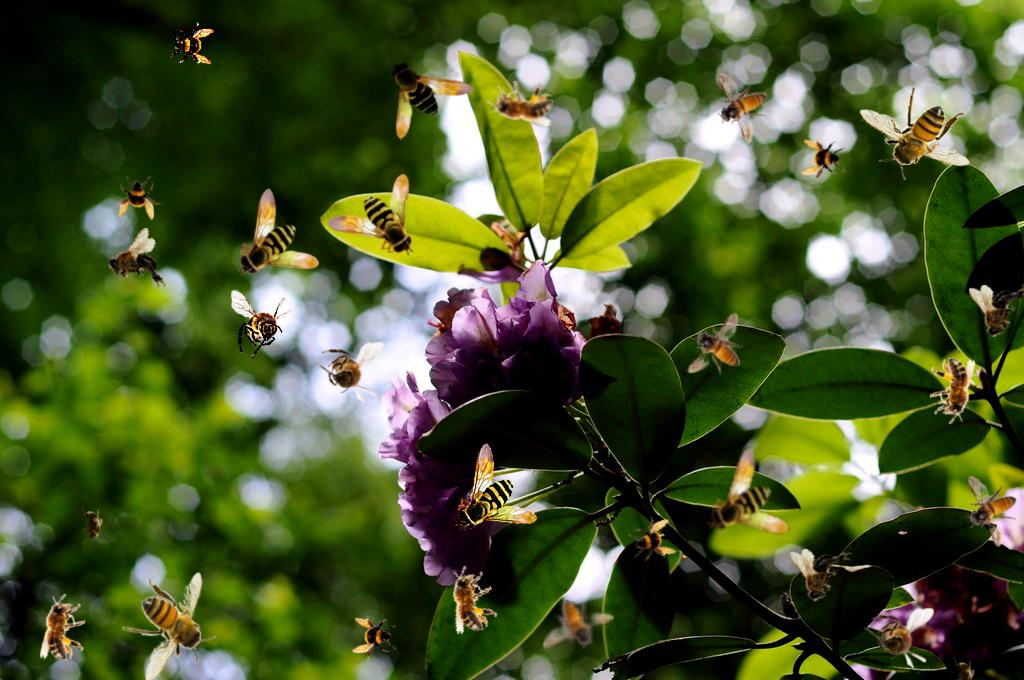Bee: (859, 86, 970, 180), (122, 572, 216, 680), (705, 442, 801, 542), (325, 171, 417, 257), (455, 443, 537, 531), (237, 188, 319, 276), (388, 58, 476, 140), (672, 310, 760, 389), (99, 226, 170, 302), (440, 560, 502, 637), (231, 290, 292, 360), (864, 608, 934, 669), (314, 342, 384, 403), (717, 73, 767, 144), (967, 476, 1017, 547), (543, 599, 614, 649), (790, 549, 852, 602), (624, 511, 680, 567), (487, 81, 553, 126), (40, 594, 85, 660), (930, 358, 975, 424), (969, 285, 1024, 338), (117, 176, 161, 220), (352, 616, 396, 660), (801, 138, 845, 182), (170, 22, 214, 66), (81, 506, 103, 546), (953, 657, 975, 680)
